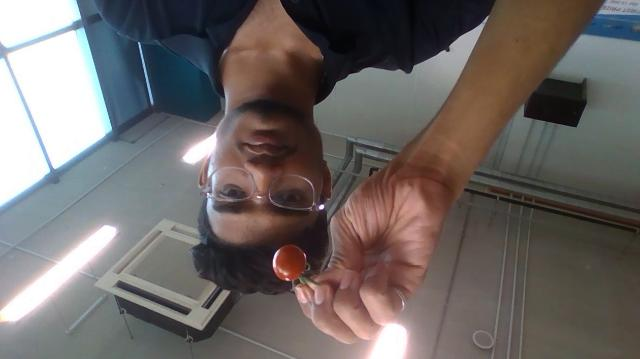Fully Grown: (272, 244, 308, 282)
